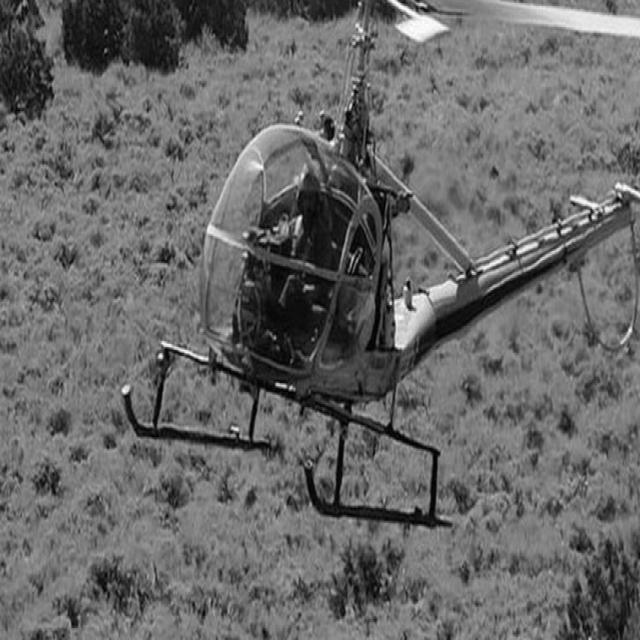helicopter: (102, 1, 640, 554)
